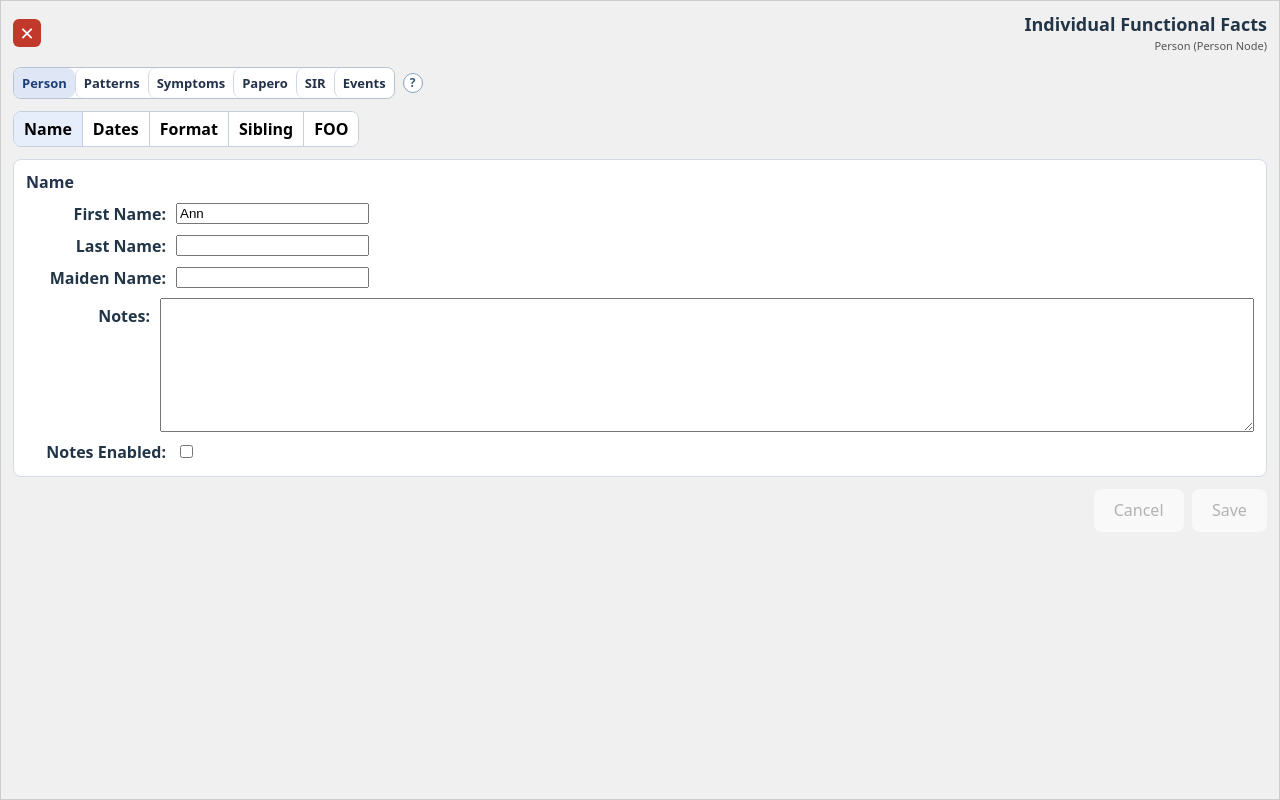
it: Events tab — each row acts on the entity that owns it › lists the person's own marriage and an imported symptom, as the Timeline lane does
Click the tab "Events" at point(364, 82), box [334,68,394,98]
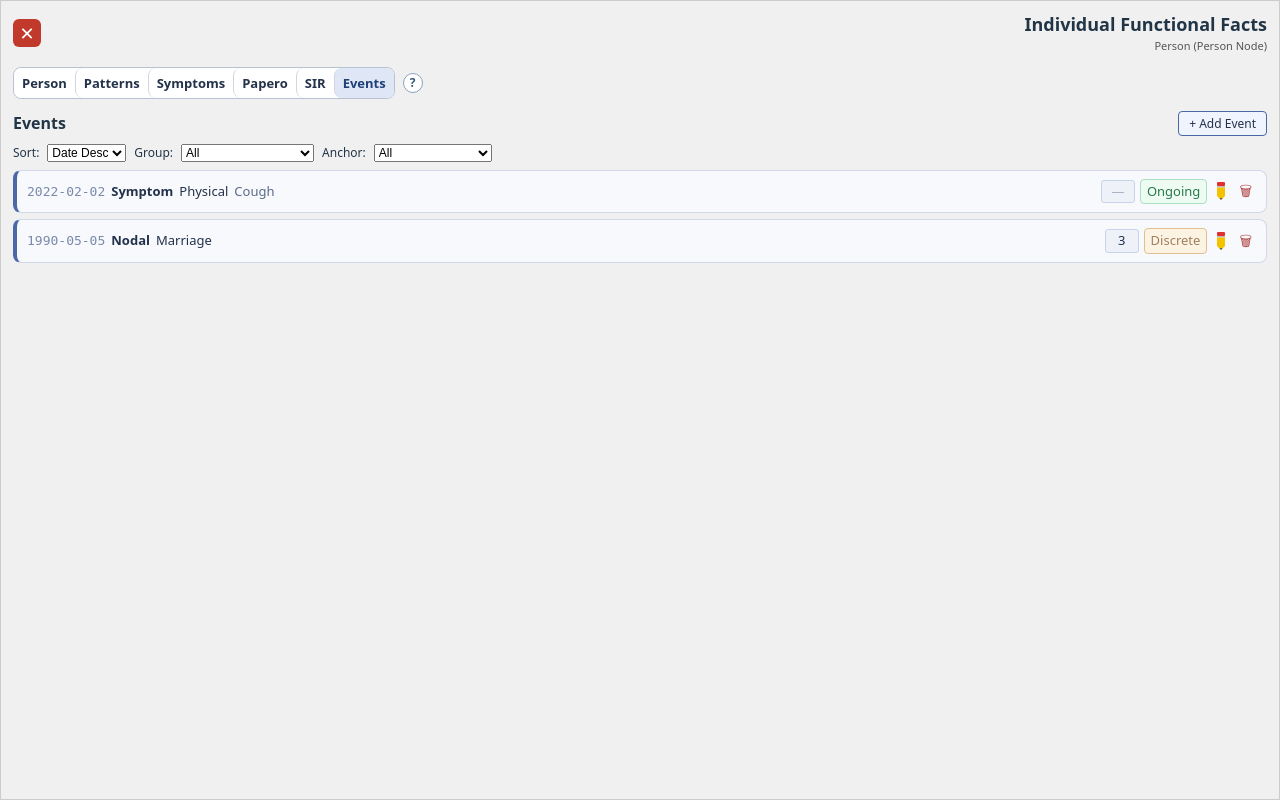
expect the text "Marriage" is shown: met, box [156,231,212,250]
expect the text "Cough" is shown: met, box [234,182,274,201]
